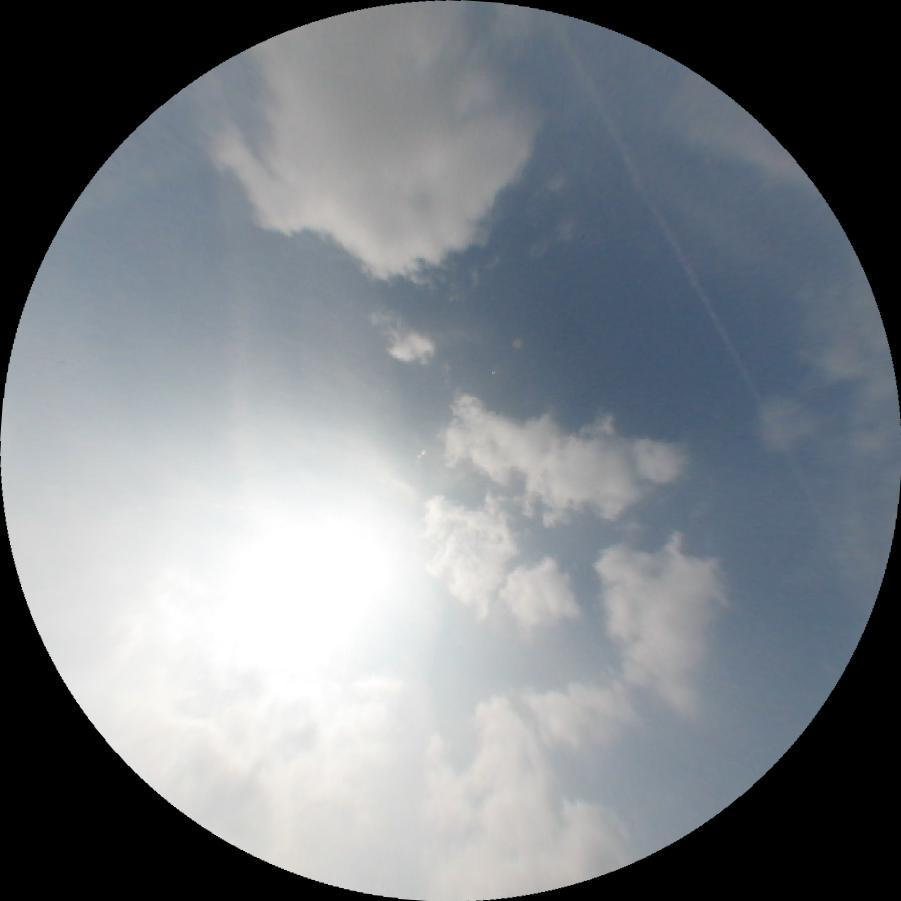contrail young: (548, 10, 831, 525)
sun: (231, 506, 407, 646)
